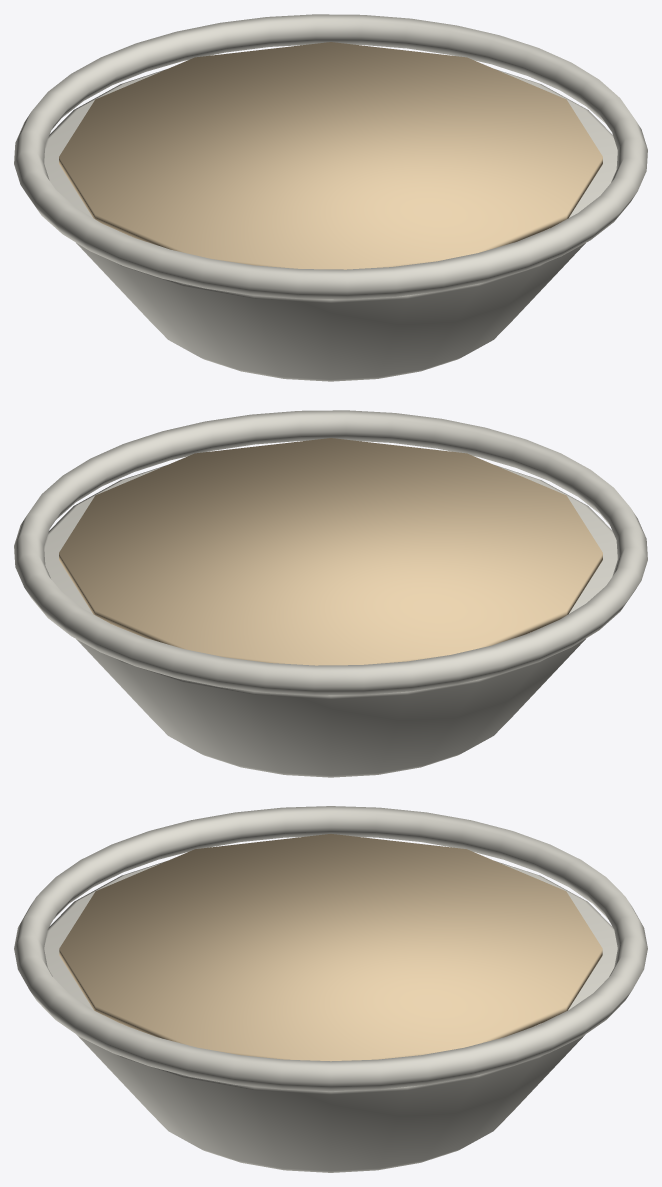
The model's file is atelier-ceramic-bowl.glb.
3 views of the same model, one above another, from view 1: azimuth 30°, elevation 25°; view 2: azimuth 150°, elevation 25°; view 3: azimuth 270°, elevation 25° (orthographic).
Parts seen in each view (by area): view 1: accent.036, ceramic.063; view 2: accent.036, ceramic.063; view 3: accent.036, ceramic.063.
Part boxes in pixels (<box>): accent.036: <box>59,42,602,269</box>; ceramic.063: <box>14,14,647,381</box>; accent.036: <box>59,438,602,665</box>; ceramic.063: <box>14,410,647,777</box>; accent.036: <box>59,834,602,1061</box>; ceramic.063: <box>14,806,647,1172</box>.
Size of the model in its own units: 0.42 by 0.1187 by 0.42.
